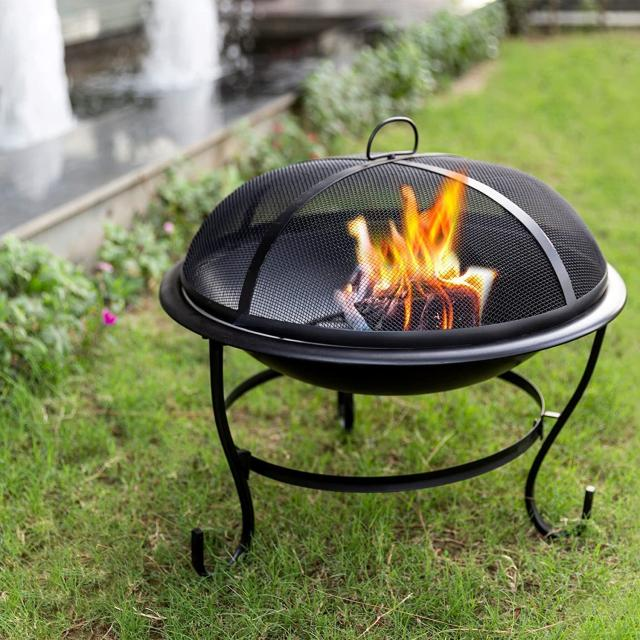fire: (348, 170, 467, 288)
